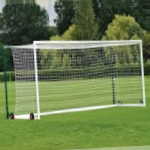goals: (8, 37, 148, 121)
